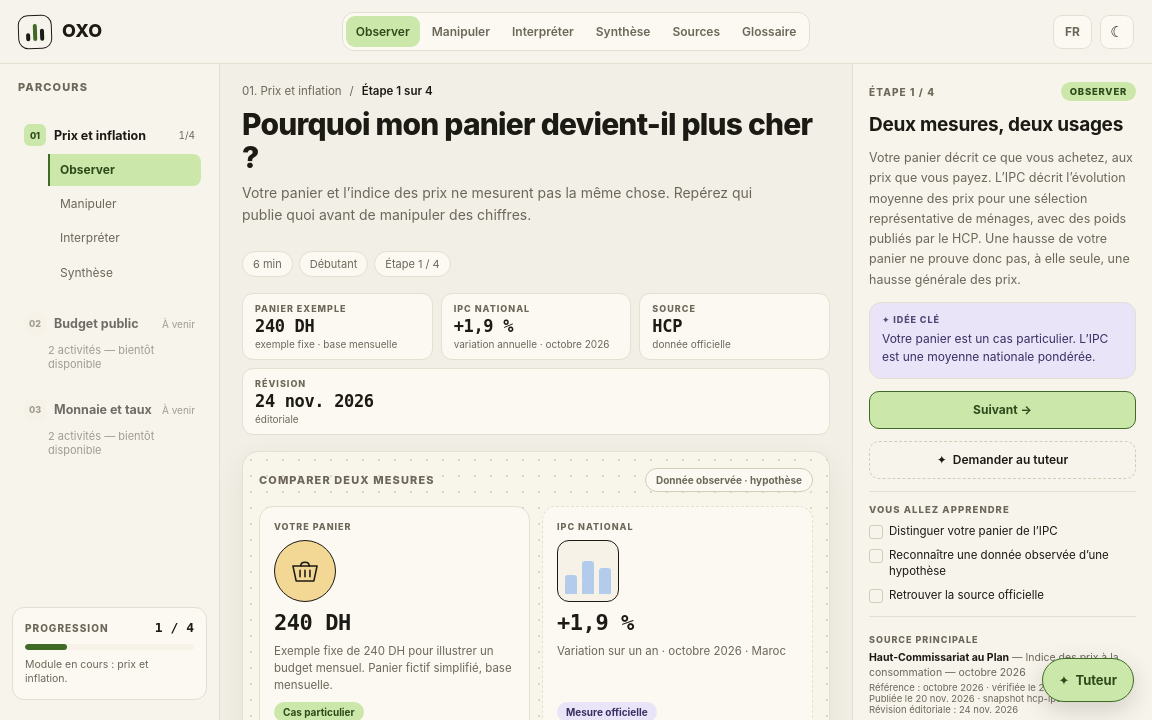
App › affiche les sources et leur date de vérification
Click the button "Sources" at coordinates (696, 32), box x1=662 y1=16 x2=730 y2=47
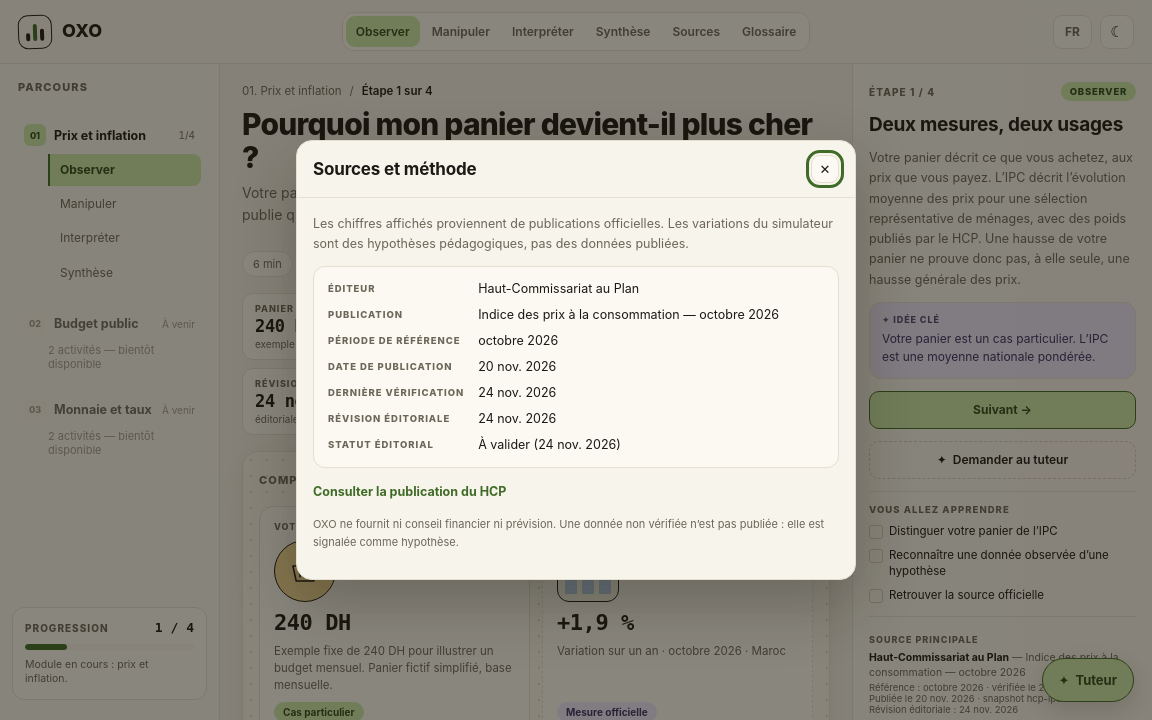
Expected: the text "Haut-Commissariat au Plan" is shown, x1=478 y1=281 x2=639 y2=296
Expected: the text "24 nov. 2026" is shown 2 times, x1=478 y1=385 x2=556 y2=400; x1=478 y1=411 x2=556 y2=426
Expected: the text "20 nov. 2026" is shown once, x1=478 y1=359 x2=556 y2=374
